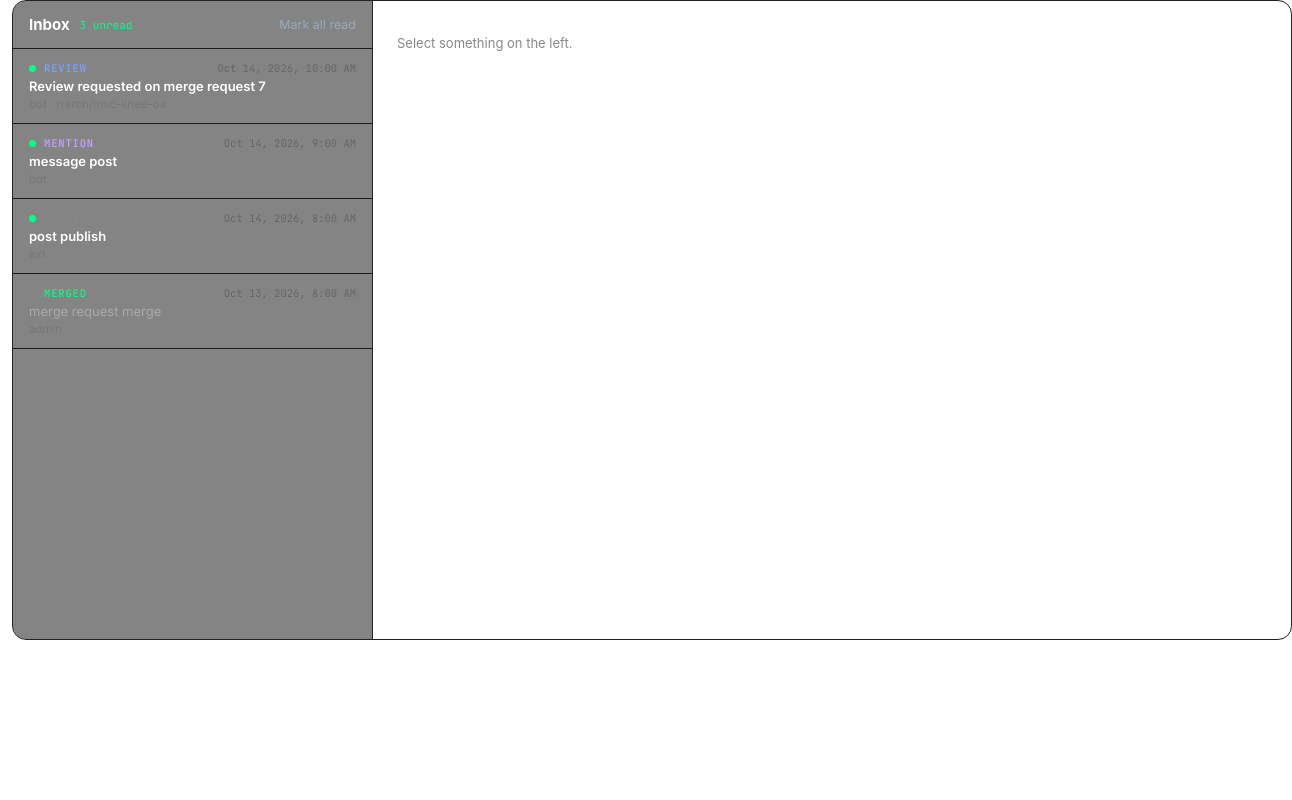
it: mark all read
Expected: the text "3 unread" is shown, [80,18,132,32]
Step 1. Click the button "Mark all read" → coordinates (318, 24), box [279,17,356,32]
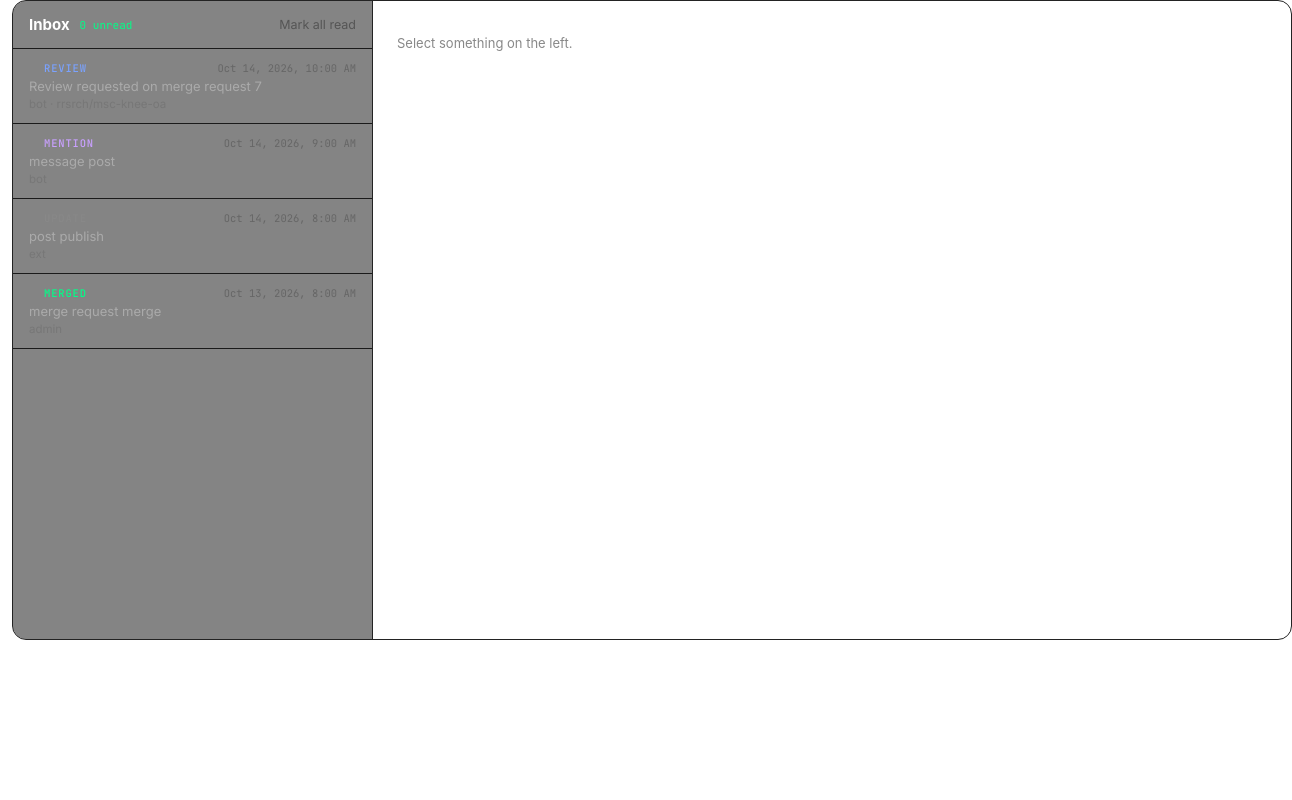
Expected: the text "0 unread" is shown, [80,18,132,32]
